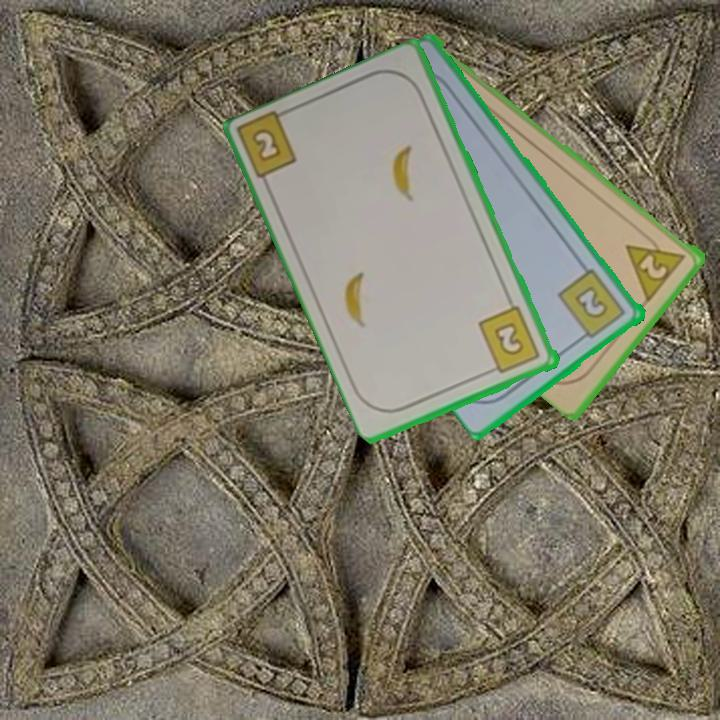2b: (555, 265, 629, 345), (475, 303, 544, 377), (248, 125, 285, 166)
2p: (622, 227, 691, 303)
